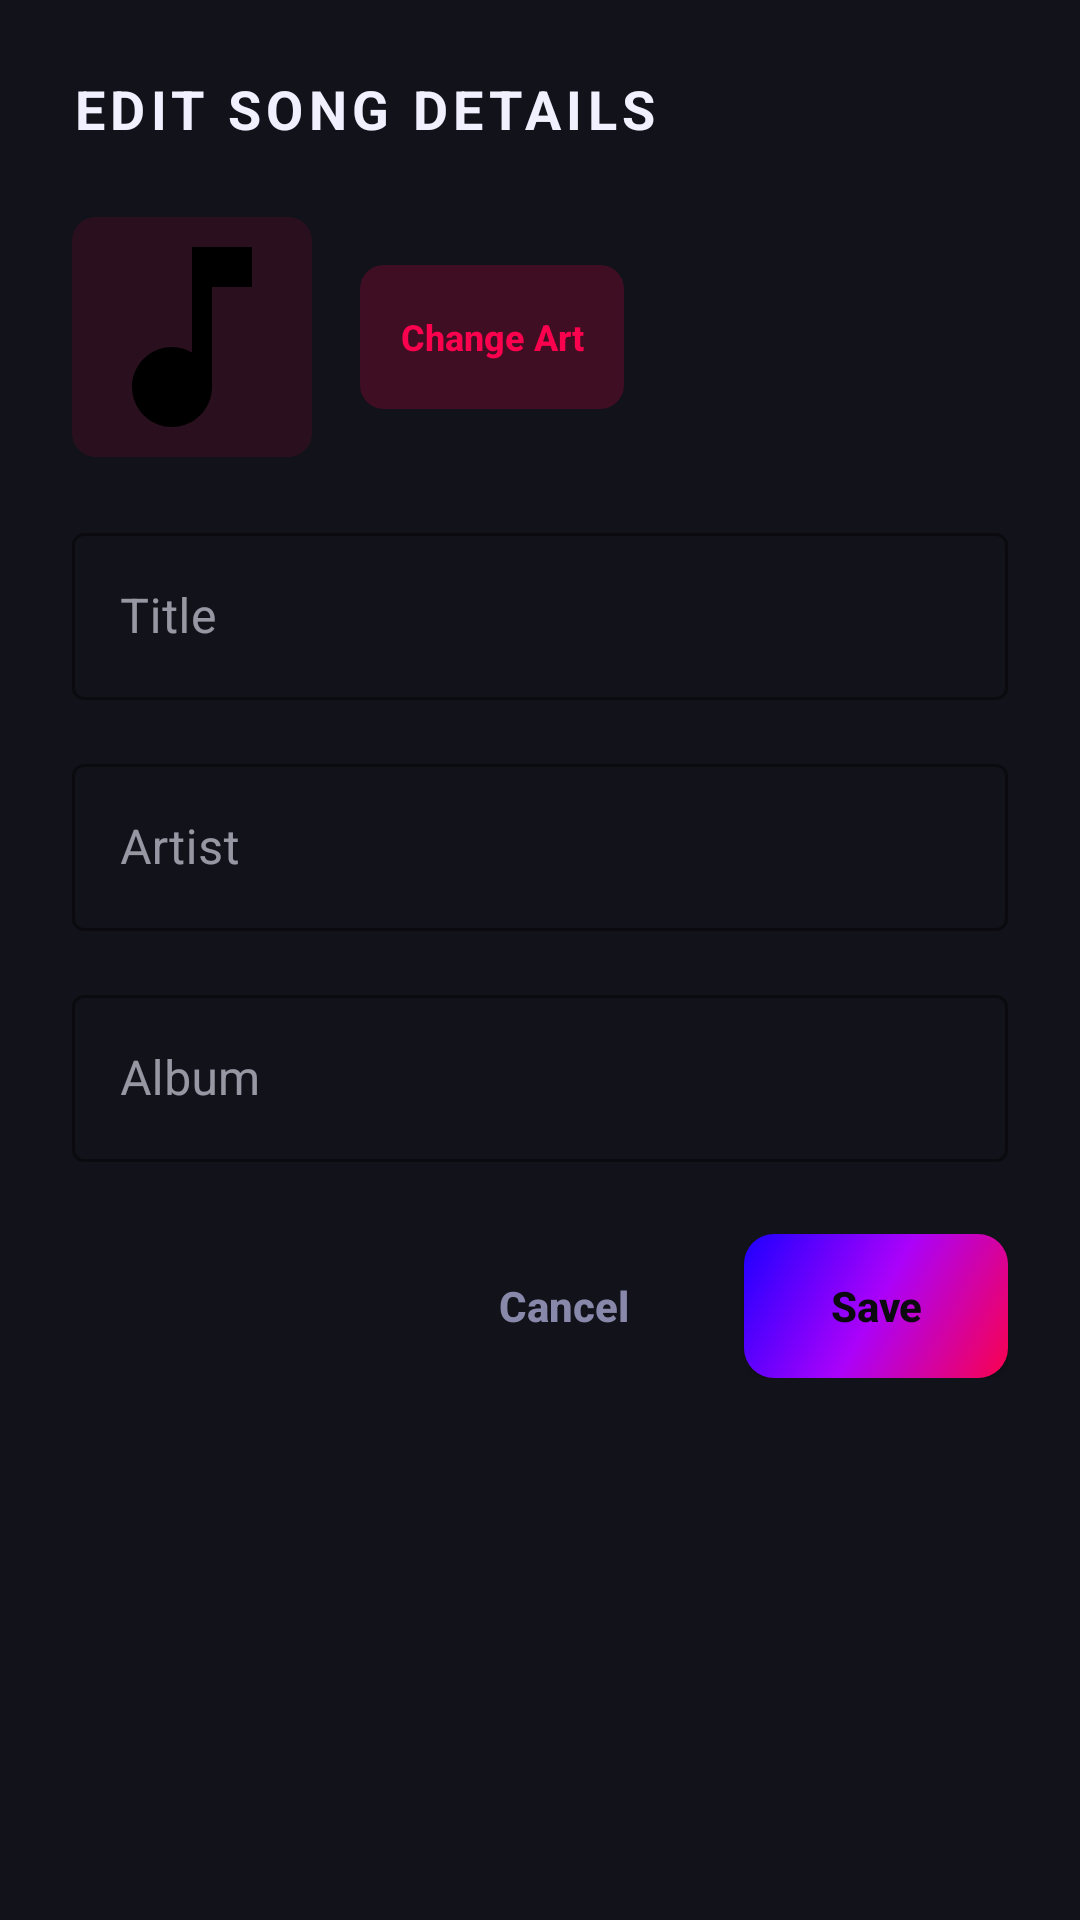

Where icons sit on this 1080px x 1920px app screen, as (x1, y1, x2, y2):
music note: (72, 217, 312, 457)
